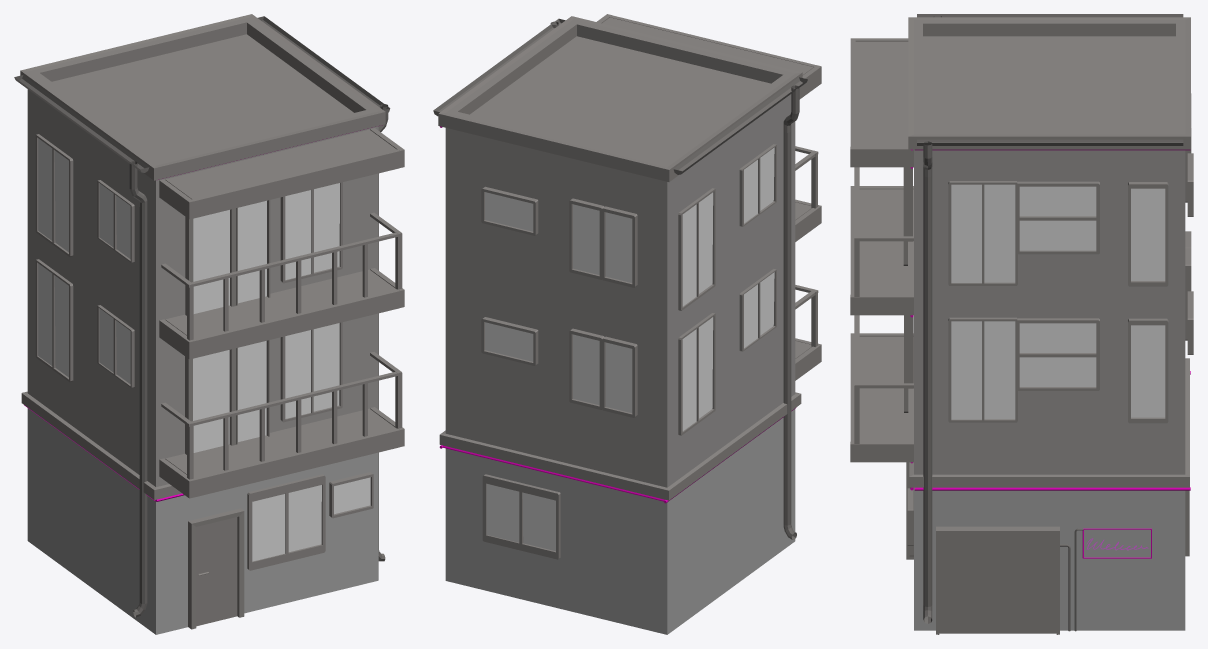
File: UpdatedSmallBuilding_02.fbx
3 renders of one model, left to right at view 1: azimuth 30°, elevation 25°; view 2: azimuth 150°, elevation 25°; view 3: azimuth 270°, elevation 25°, orthographic. The views are drawn at different scales.
Parts seen in each view (by area): view 1: UpdatedSmallBuilding_02; view 2: UpdatedSmallBuilding_02; view 3: UpdatedSmallBuilding_02.
Boxes of the visible parts, x1,y1,x2,y2 form: UpdatedSmallBuilding_02: (14, 14, 404, 634); UpdatedSmallBuilding_02: (433, 14, 821, 634); UpdatedSmallBuilding_02: (850, 14, 1193, 634).
Size of the model in its own units: 446 by 790 by 495.
